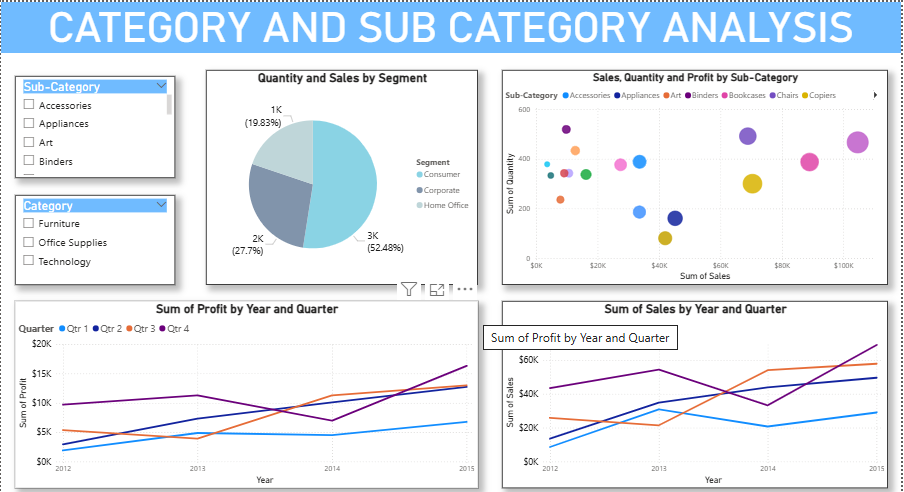

Layout of this report page (visuals, bound fields, positions):
{"tool":"powerbi","page":{"name":"Category & sub category analysis","canvas":[1500,832],"ordinal":2},"visuals":[{"type":"textbox","title":"CATEGORY AND SUB CATEGORY ANALYSIS","box":[0,0,1500,90],"z":0},{"type":"slicer","fields":{"Values":["Orders.Sub-Category"]},"box":[23.3,123.3,266.7,170],"z":1000},{"type":"slicer","fields":{"Values":["Orders.Category"]},"box":[23.3,321.7,266.7,150],"z":2000},{"type":"pieChart","title":"Quantity and Sales by Segment","fields":{"Category":["Orders.Segment"],"Y":["Sum(Orders.Quantity)"]},"box":[341.7,113.3,453.3,358.3],"z":3000},{"type":"scatterChart","title":" Sales, Quantity and Profit by Sub-Category","fields":{"X":["Sum(Orders.Sales)"],"Y":["Sum(Orders.Quantity)"],"Series":["Orders.Sub-Category"],"Size":["Sum(Orders.Profit)"]},"box":[835,113.3,643.3,358.3],"z":4000},{"type":"lineChart","fields":{"Category":["Orders.Year"],"Y":["Sum(Orders.Profit)"],"Series":["Orders.Quarter"]},"box":[23.3,498.3,771.7,311.7],"z":5000},{"type":"lineChart","fields":{"Category":["Orders.Year"],"Series":["Orders.Quarter"],"Y":["Sum(Orders.Sales)"]},"box":[835,498.3,643.3,311.7],"z":6000}]}

Visuals, with their boxes in screenshot pixels (x1, y1, x2, y2), scaled from the page's 1500x832 canvas onto the 904x492 screenshot:
"CATEGORY AND SUB CATEGORY ANALYSIS" textbox: bbox(0, 0, 903, 53)
slicer - Orders.Sub-Category: bbox(14, 73, 175, 173)
slicer - Orders.Category: bbox(14, 190, 175, 279)
"Quantity and Sales by Segment" pieChart: bbox(206, 67, 479, 279)
" Sales, Quantity and Profit by Sub-Category" scatterChart: bbox(503, 67, 891, 279)
lineChart - Orders.Year x Sum(Orders.Profit): bbox(14, 295, 479, 479)
lineChart - Orders.Year x Orders.Quarter: bbox(503, 295, 891, 479)
